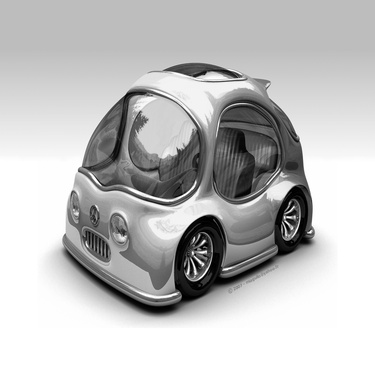car: (58, 58, 319, 292)
